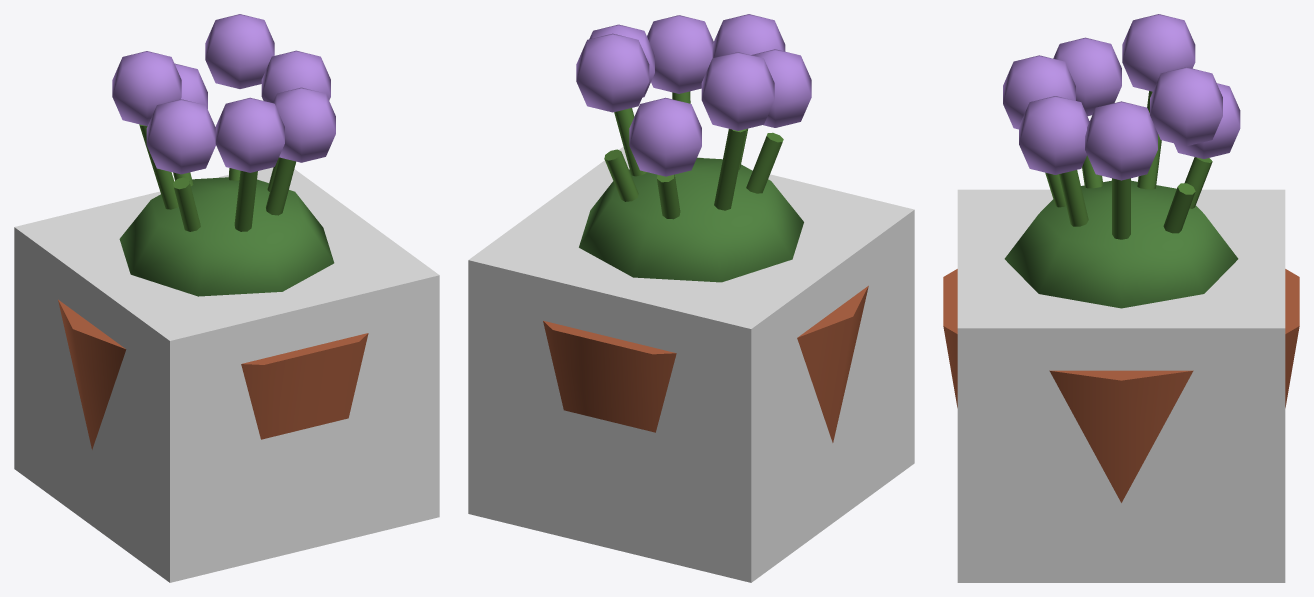
File: maceta_lila.glb
3 views of the same model, side by side, from view 1: azimuth 30°, elevation 25°; view 2: azimuth 150°, elevation 25°; view 3: azimuth 270°, elevation 25° (orthographic). The views are drawn at different scales.
Visible parts, largest first — view 1: COL_0, maceta_lila_Malla; view 2: COL_0, maceta_lila_Malla; view 3: COL_0, maceta_lila_Malla.
Boxes of the visible parts, x1,y1,x2,y2 form: COL_0: (14, 167, 439, 582); maceta_lila_Malla: (58, 14, 368, 449); COL_0: (468, 146, 914, 582); maceta_lila_Malla: (543, 14, 868, 442); COL_0: (957, 189, 1285, 582); maceta_lila_Malla: (943, 14, 1299, 502).
Bounding box in the file's own units: 0.8 × 1.1 × 0.7608.
